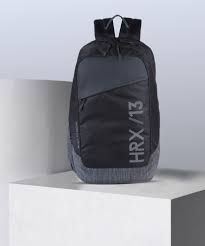backpack: (67, 14, 160, 184)
